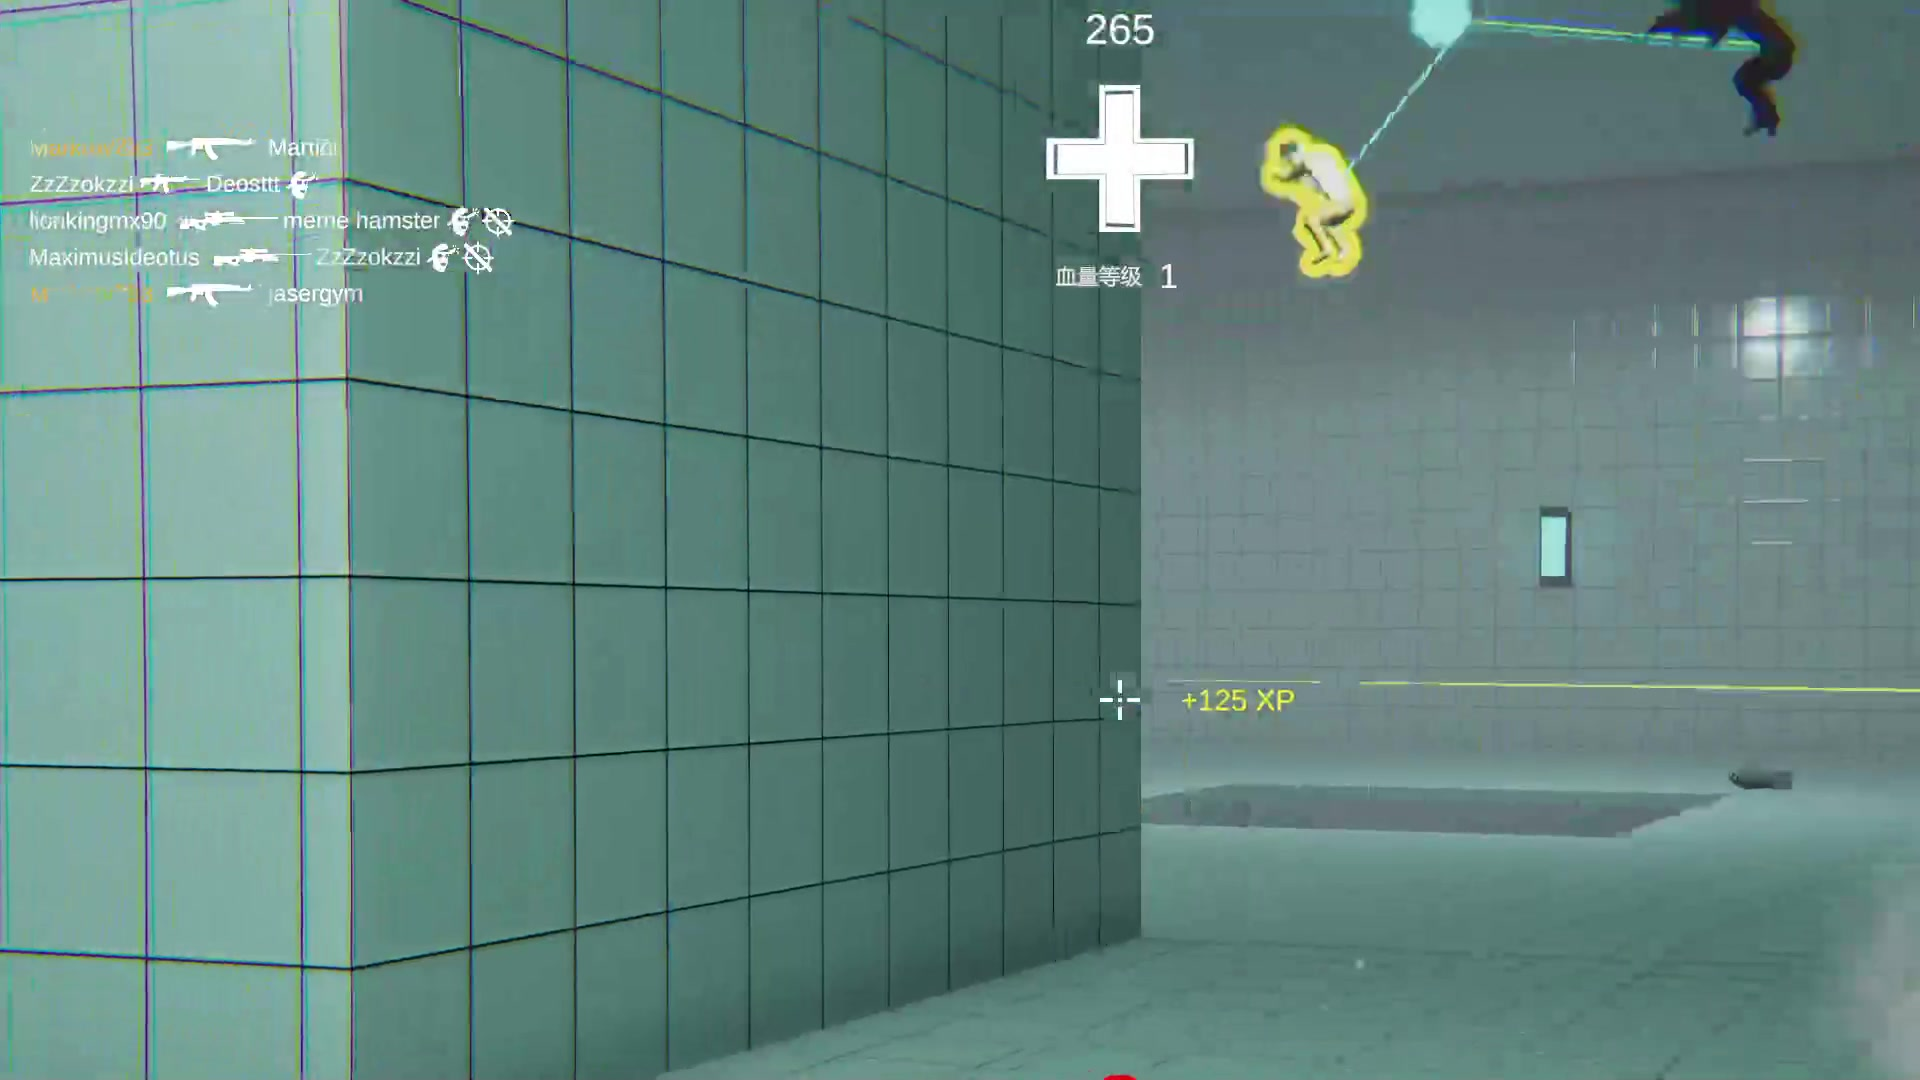human: (1275, 106, 1369, 280)
